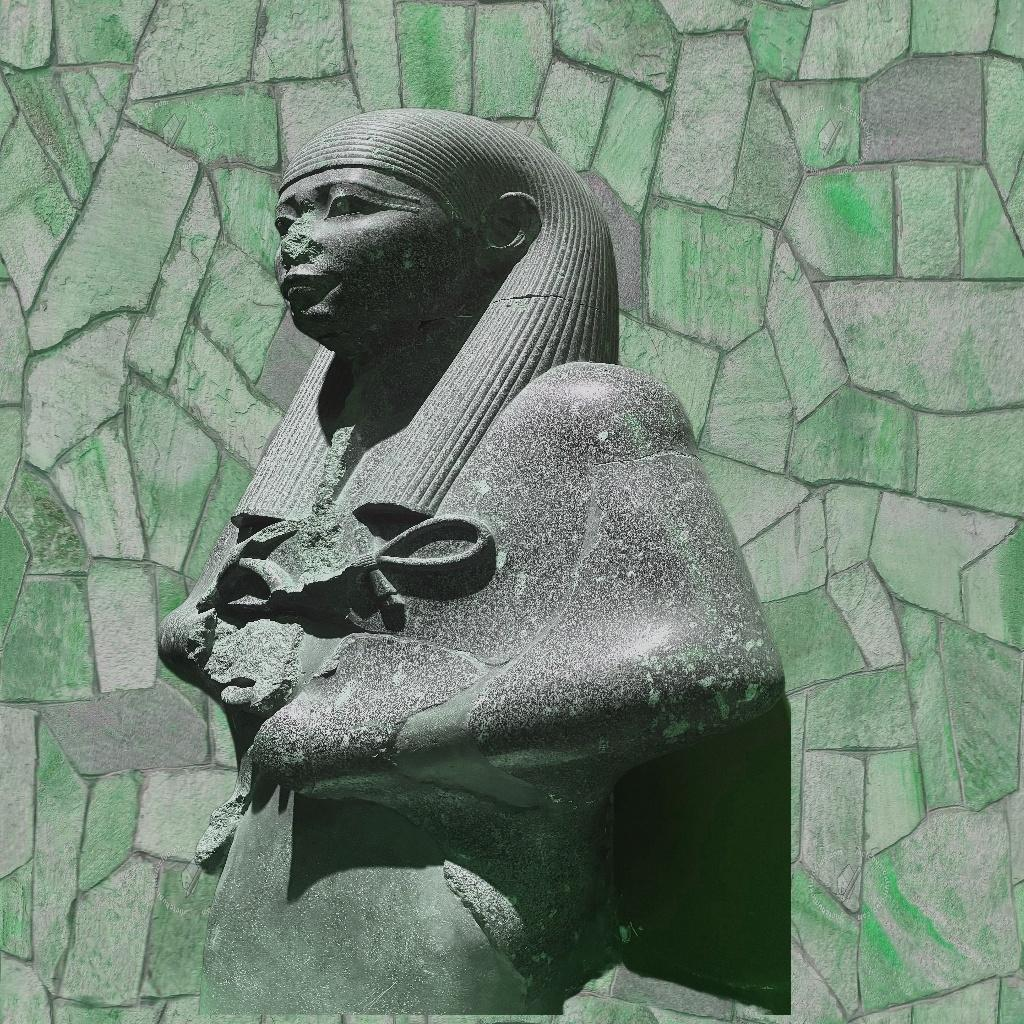Granite Statue of Osiris: (158, 106, 791, 1014)
